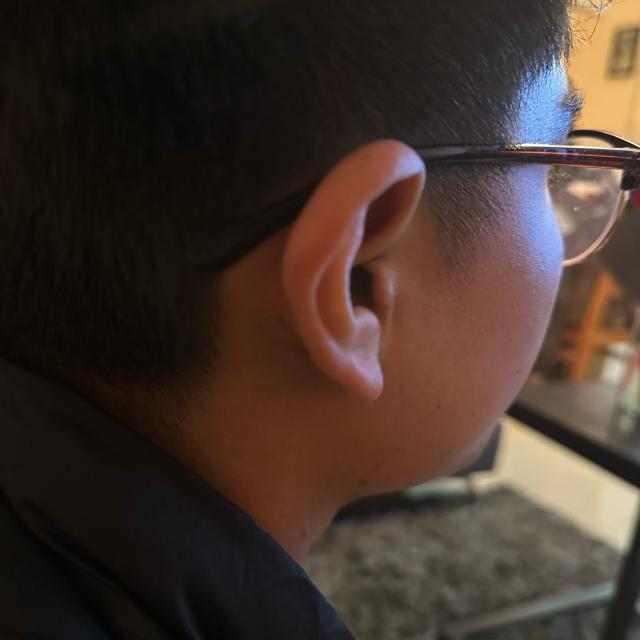ear: (282, 140, 425, 401)
